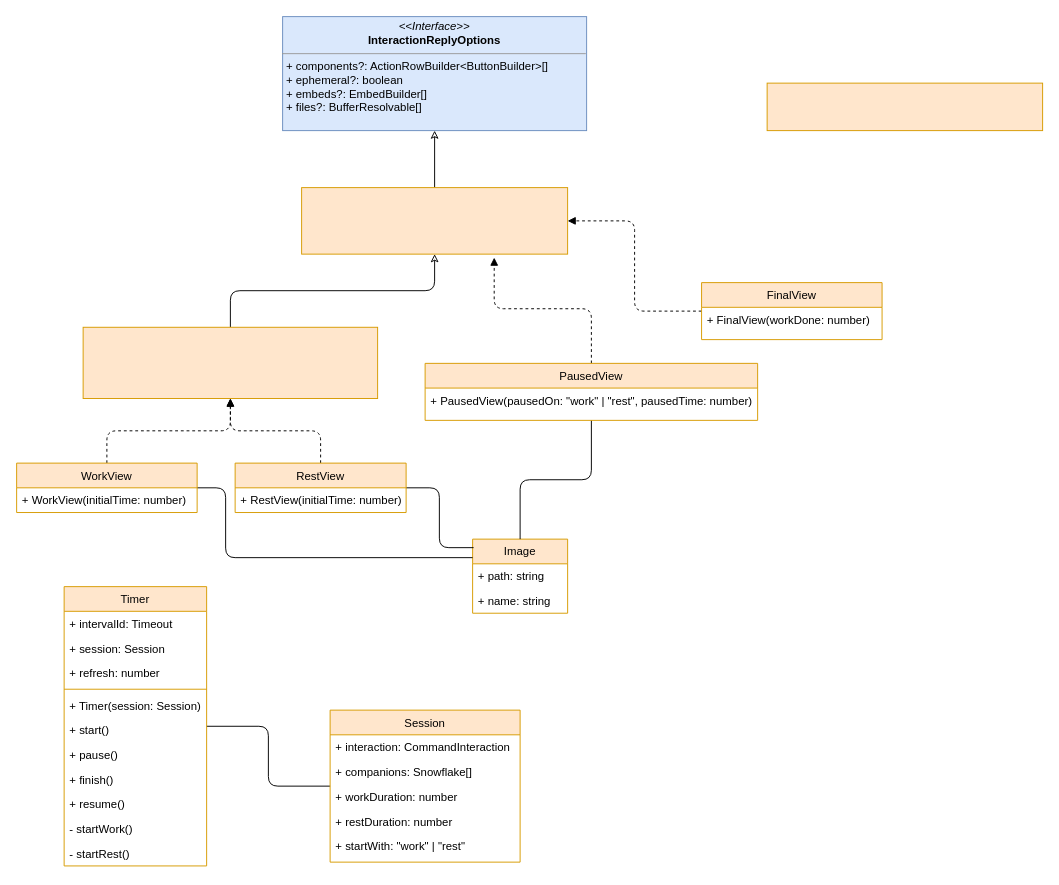
This 1059x885 diagram has some shape labels left out. Each missing label, with the centre of its shape:
<<Interface>> DynamicView + render(timeRemaining: number): void: pixel 230 362
<<Interface>> StaticView + new (components, ephemeral, embeds, files): pixel 434 220
ViewType = "work" | "rest" | "finish" | "pause": pixel 904 106
